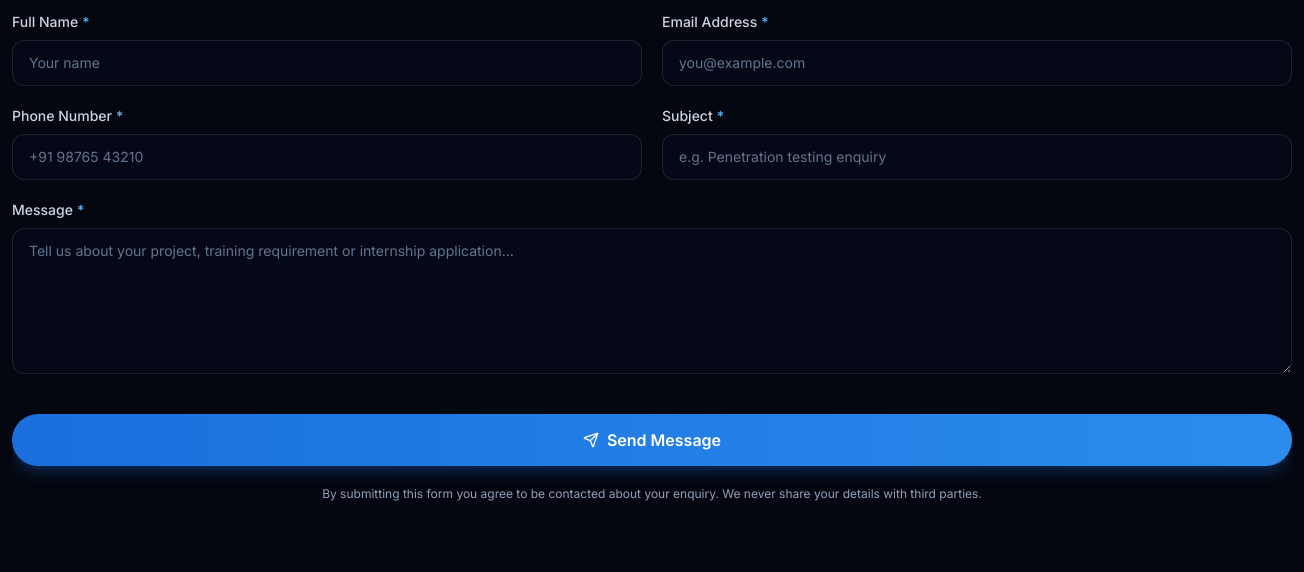
Test: ContactForm › surfaces a server-side failure to the user
Type "Manikandan K" into the field labelled "Full Name*". click: (327, 63)
box: [12,40,642,86]
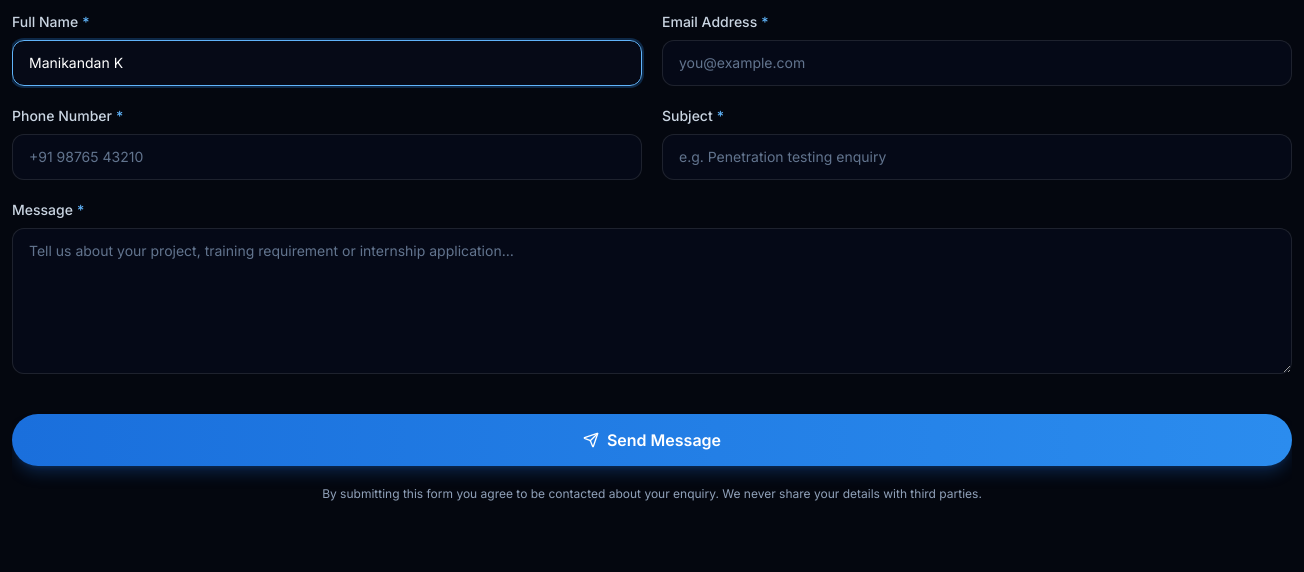
Type "someone@example.com" into the field labelled "Email Address*". click: (977, 63)
box: [662,40,1292,86]
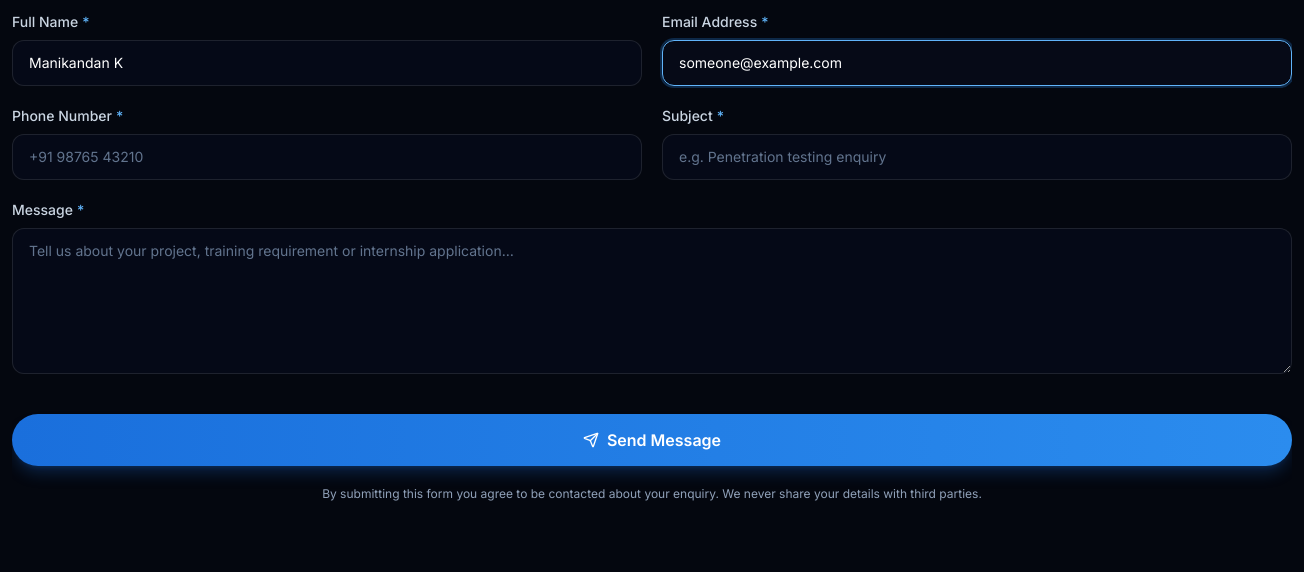
Type "+91 79047 67261" into the field labelled "Phone Number*". click: (327, 157)
box: [12,134,642,180]
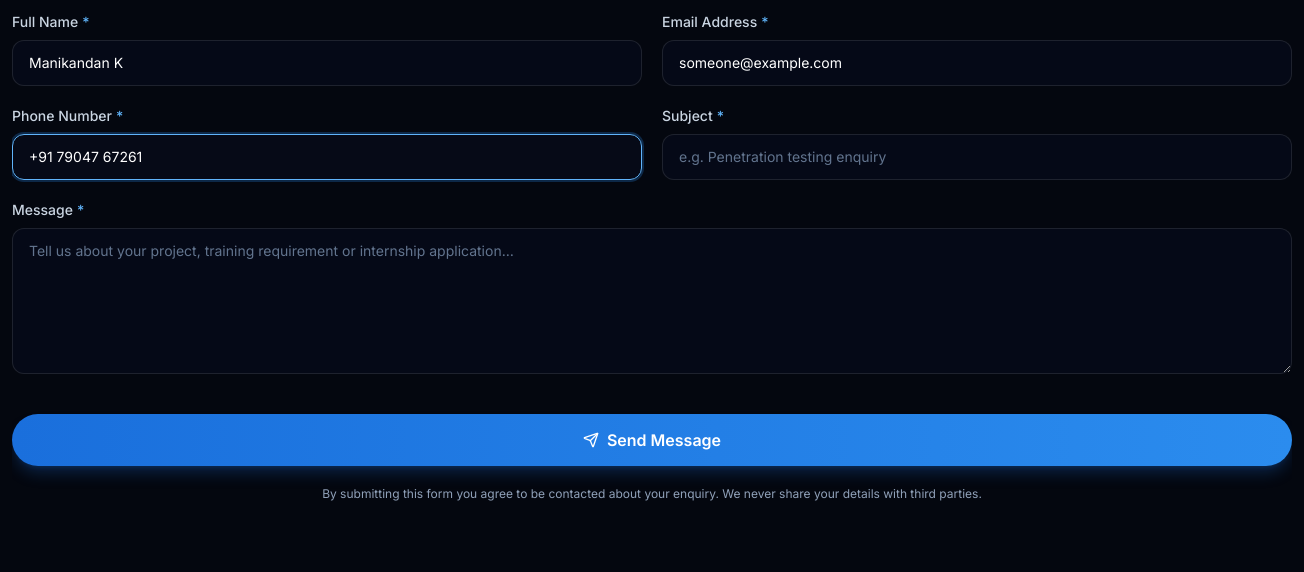
Type "Penetration testing enquiry" into the field labelled "Subject*". click: (977, 157)
box: [662,134,1292,180]
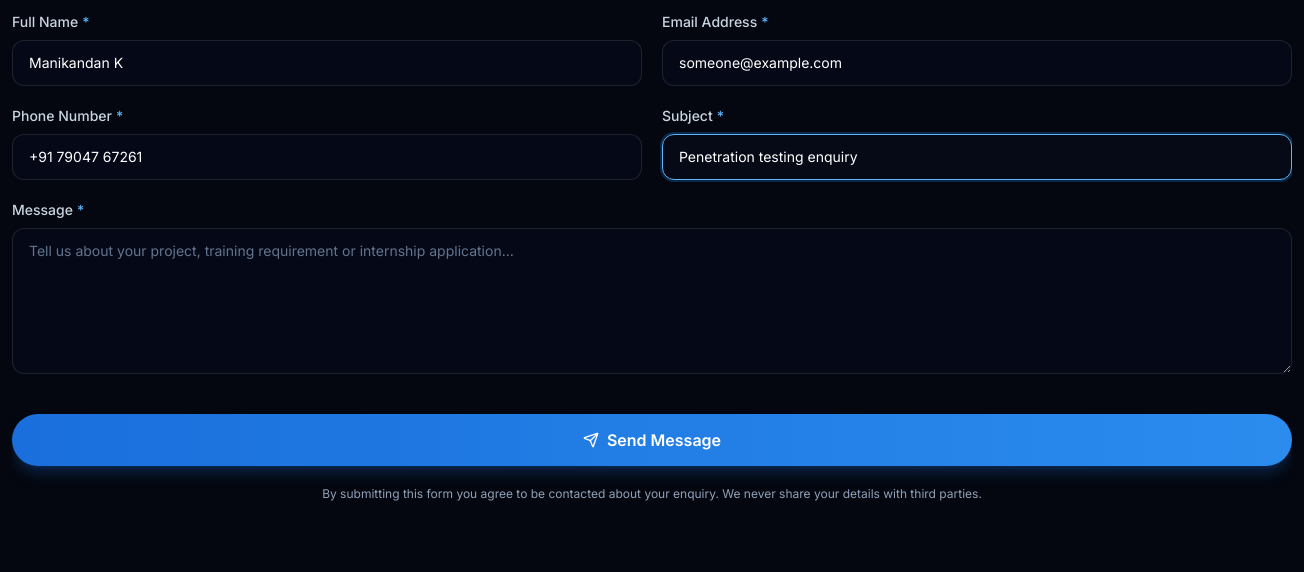
Type "We would like a vulnerability assessment for our web application." into the text box labelled "Message*". click: (652, 301)
box: [12,228,1292,374]
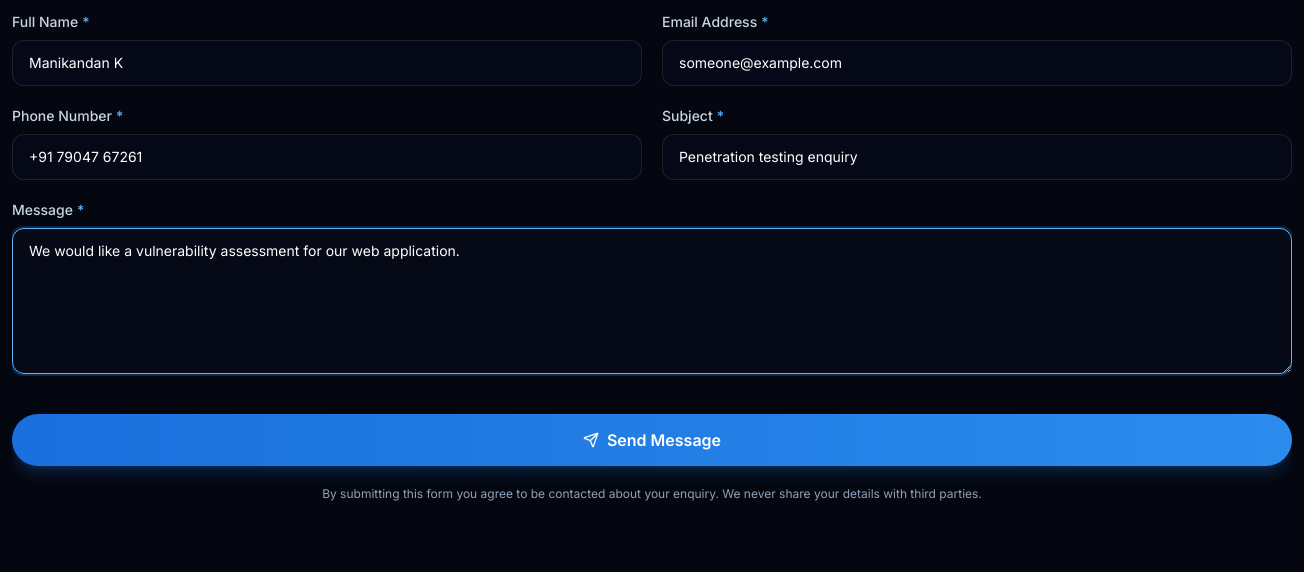
Click the button "Send Message". click: (652, 440)
box: [12,414,1292,466]
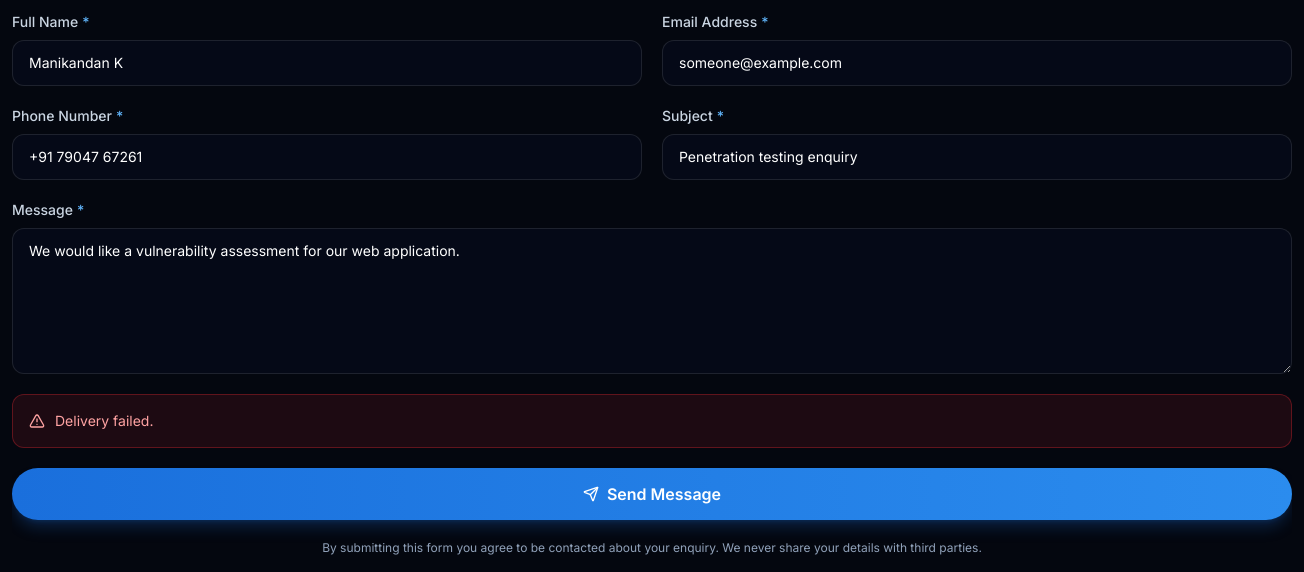
Expected: the text "Delivery failed." is shown, [12,394,1292,448]
